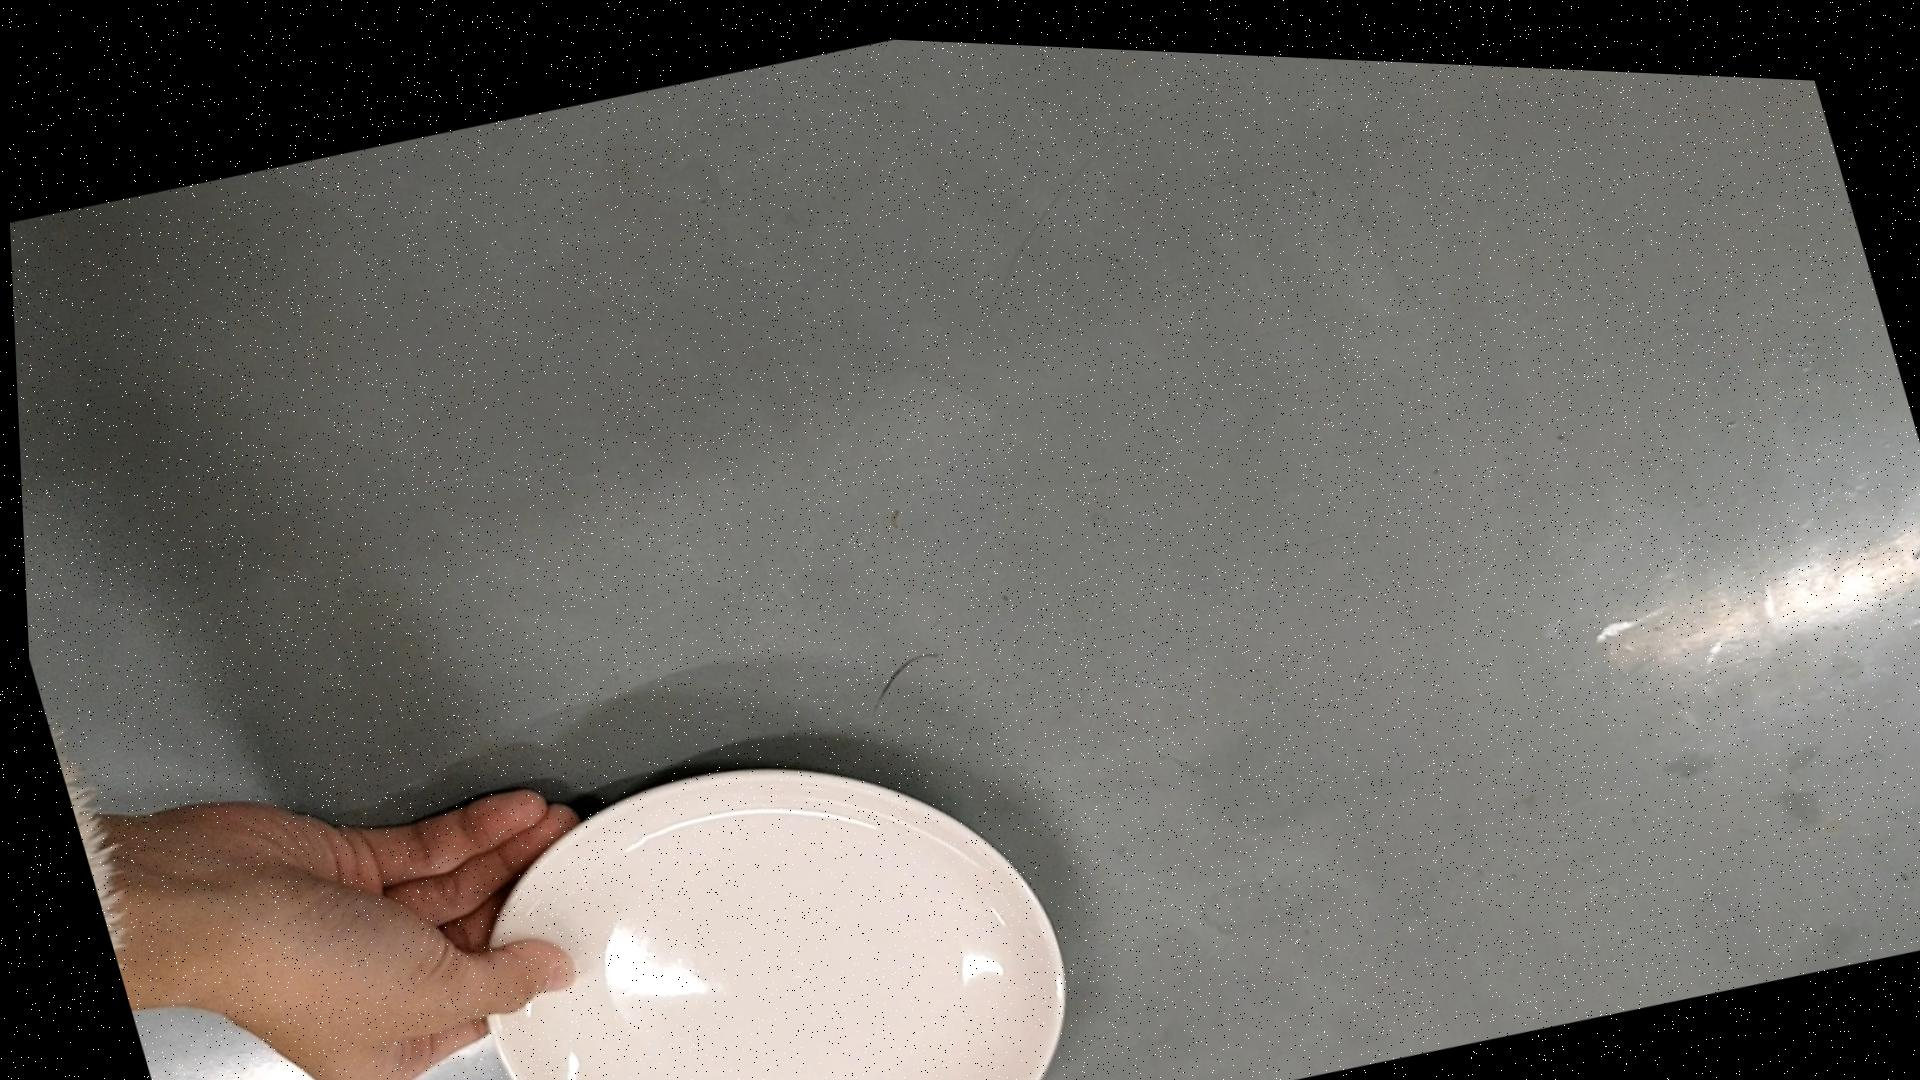plate: (418, 686, 1106, 1080)
